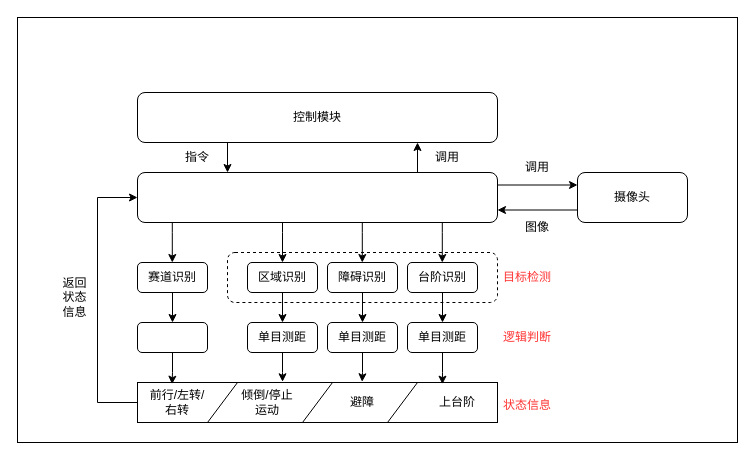
Some shapes in this 755 by 460 pixel diagram are drawn without their labels. Each missing label, with the centre of its shape:
"主程序" belongs at [317,197].
"方向判断" belongs at [172,337].
